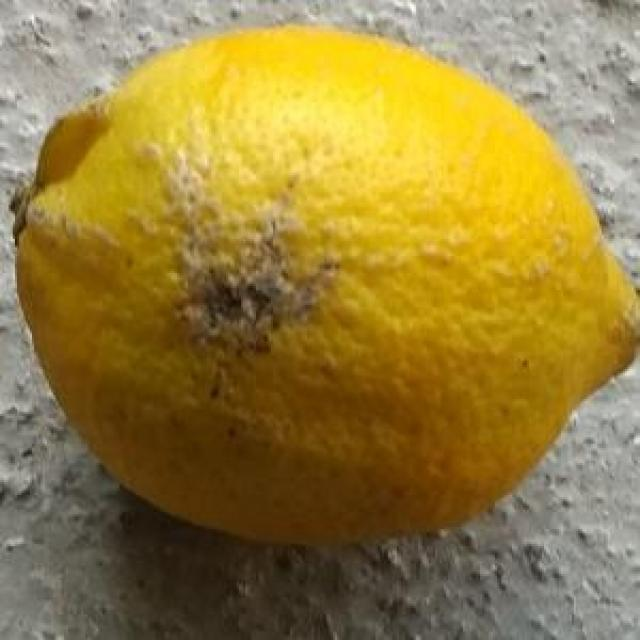lemon: (16, 21, 640, 554)
